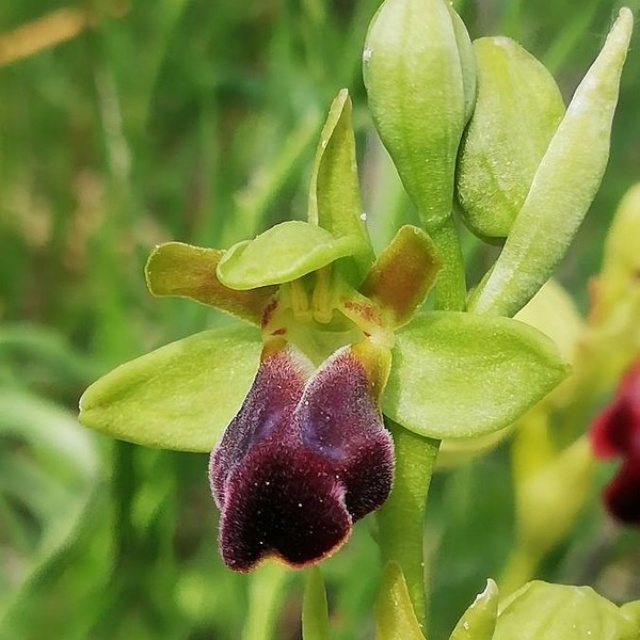obstacle: (70, 18, 614, 617)
